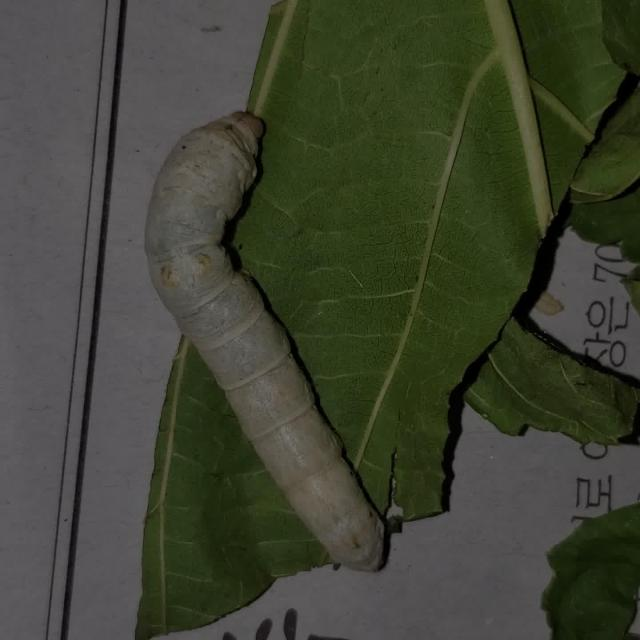Healthy: (129, 100, 420, 608)
